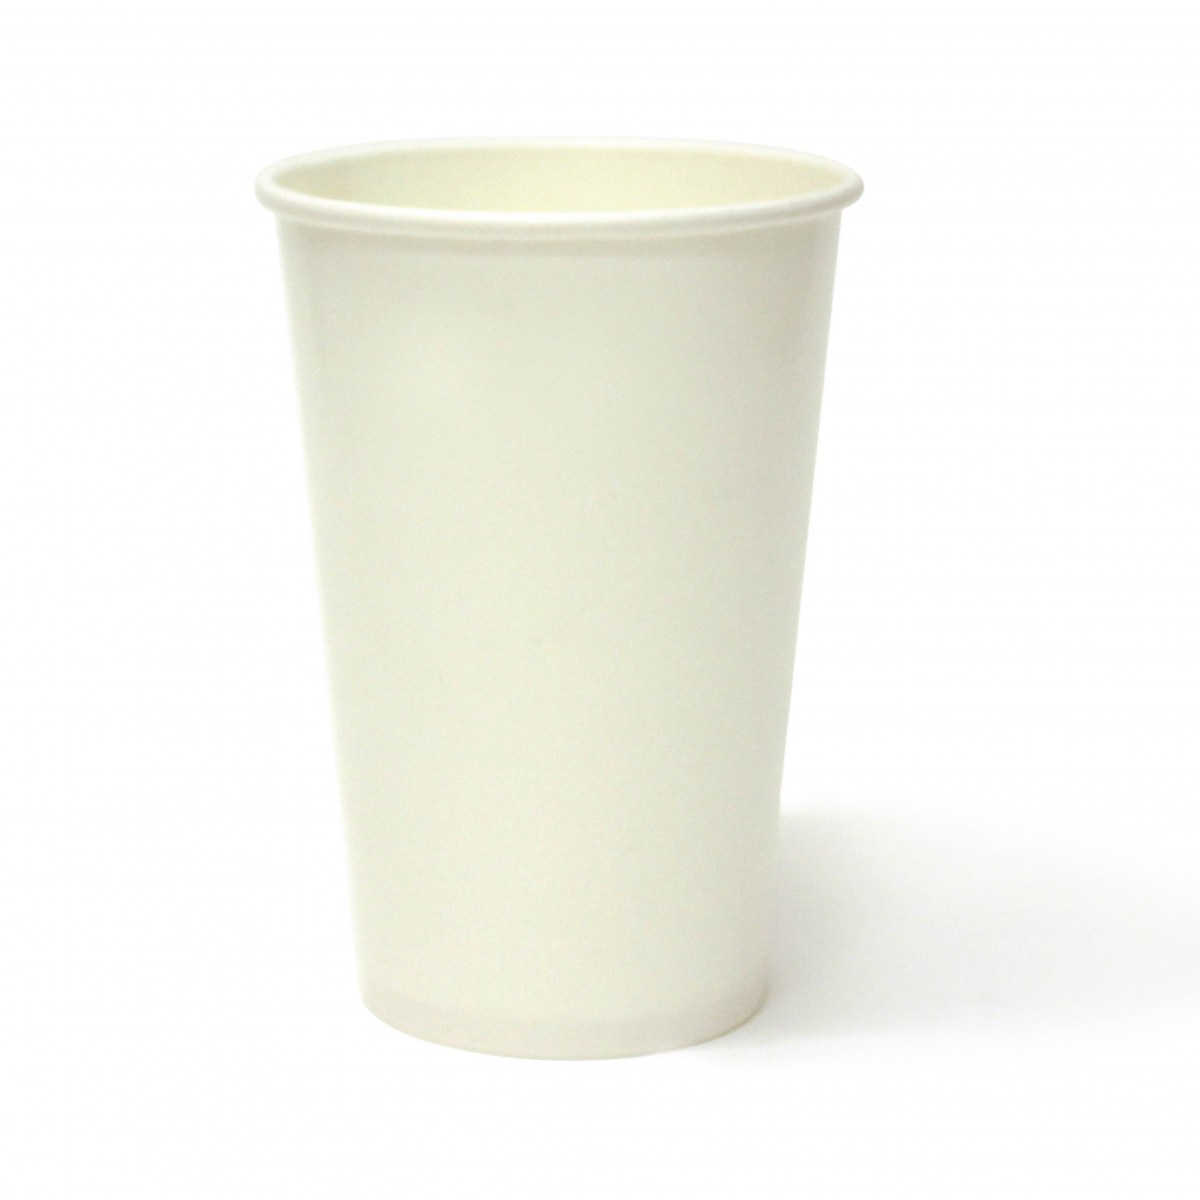PaperCup: (257, 134, 869, 1071)
